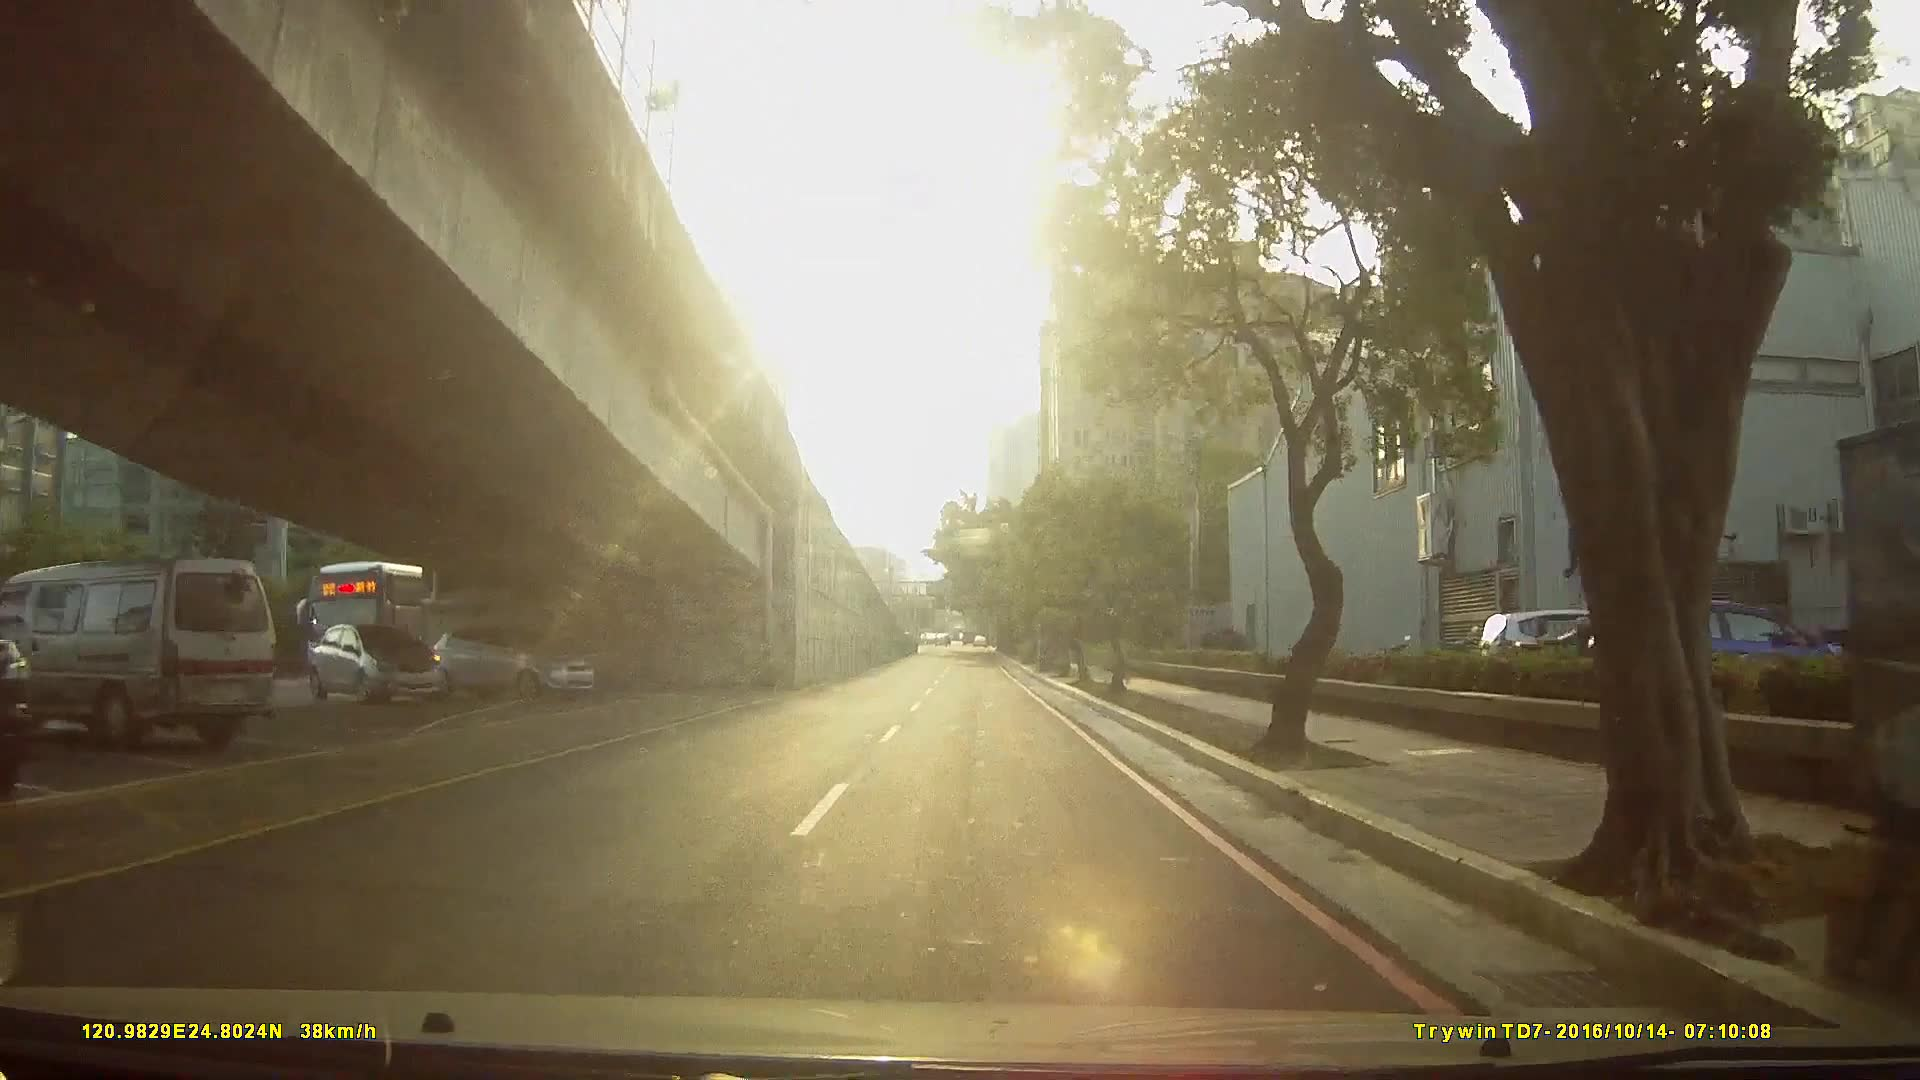vehicle: (7, 547, 276, 752), (295, 556, 514, 696), (421, 620, 593, 700), (297, 617, 440, 705)
